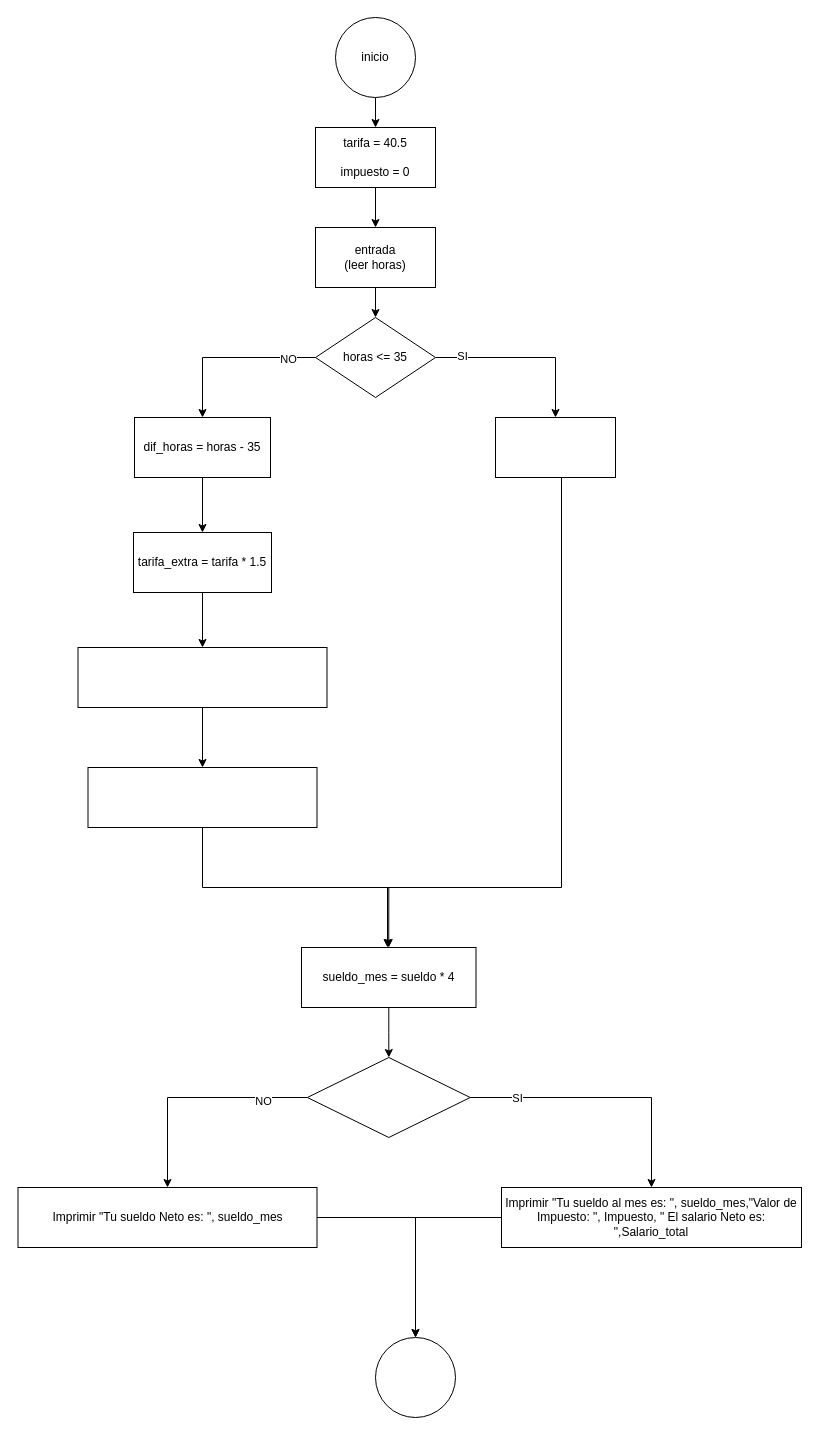
Some shapes in this 819 by 1435 pixel diagram are drawn without their labels. The centre of each missing label's shape, as x and y in pixels:
"fin" belongs at [415,1377].
"salario_extra = tarifa_extra * dif_horas" belongs at [202,677].
"sueldo = (35*tarifa) + salario_extra" belongs at [202,797].
"sueldo = horas * tarifa" belongs at [555,447].
"sueldo_mes > 20000" belongs at [388,1097].
